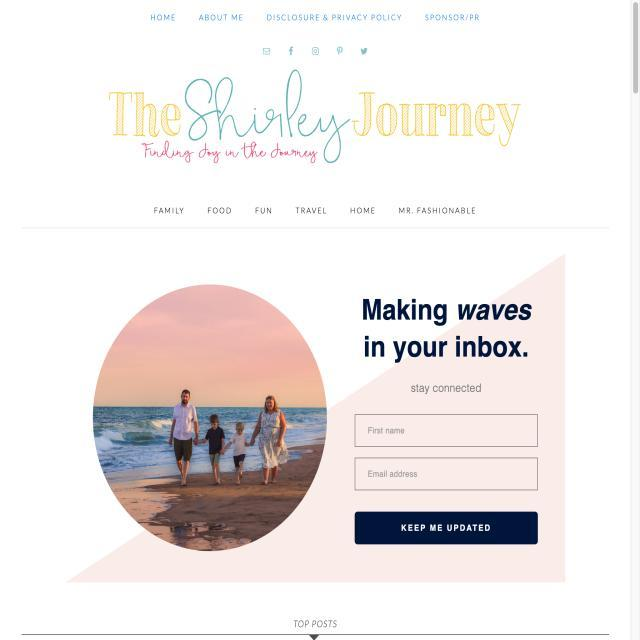button: (353, 508, 540, 546)
input field: (352, 454, 539, 492), (352, 412, 538, 450)
